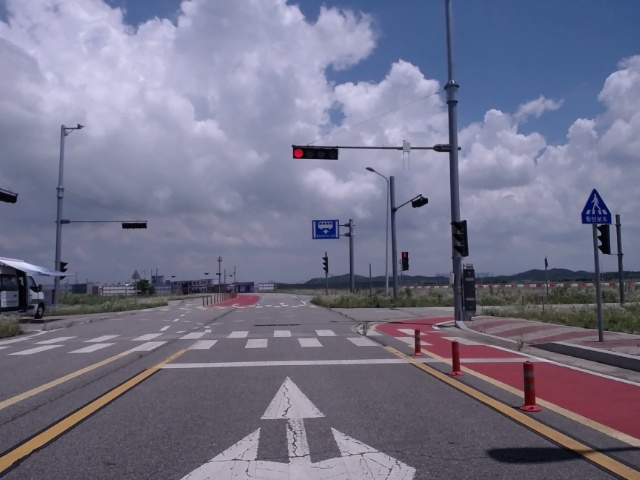red_4: (293, 147, 338, 160)
